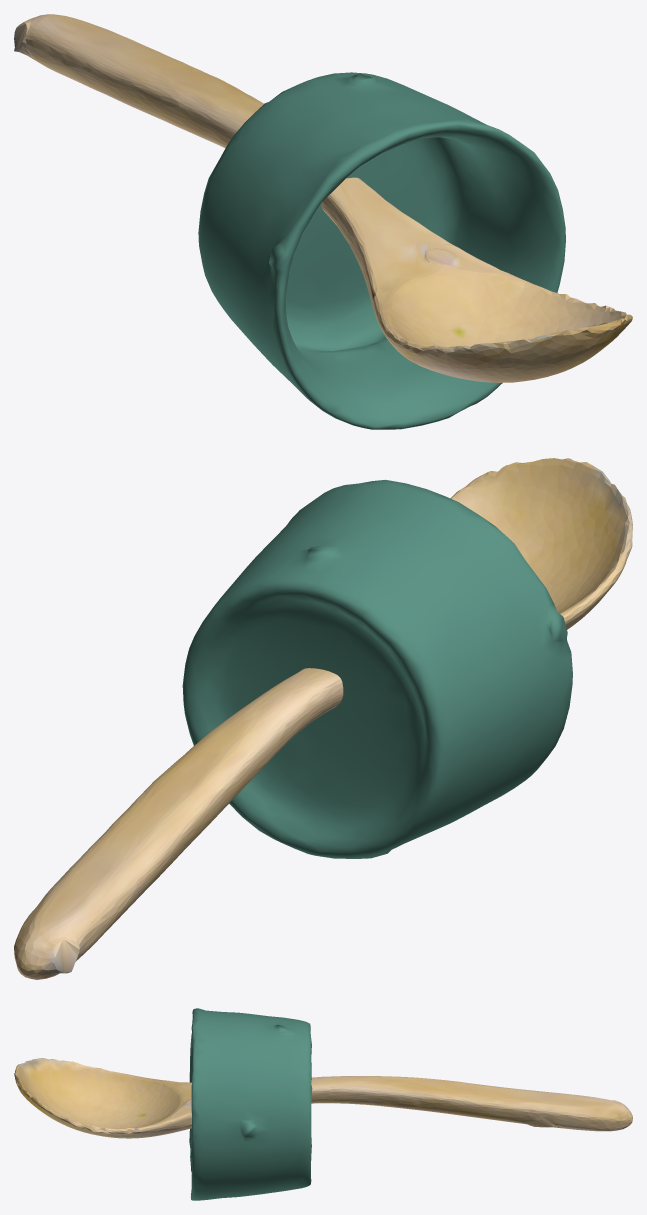
3 renders of one model, top to bottom at view 1: azimuth 30°, elevation 25°; view 2: azimuth 150°, elevation 25°; view 3: azimuth 270°, elevation 25°, orthographic. The views are drawn at different scales.
Parts seen in each view (by area): view 1: world; view 2: world; view 3: world.
Boxes of the visible parts, left/top/right/bottom form: world: left=14, top=14, right=632, bottom=429; world: left=14, top=458, right=632, bottom=979; world: left=14, top=1008, right=632, bottom=1200.
Size of the model in its own units: 0.0608 by 0.0596 by 0.1935.
